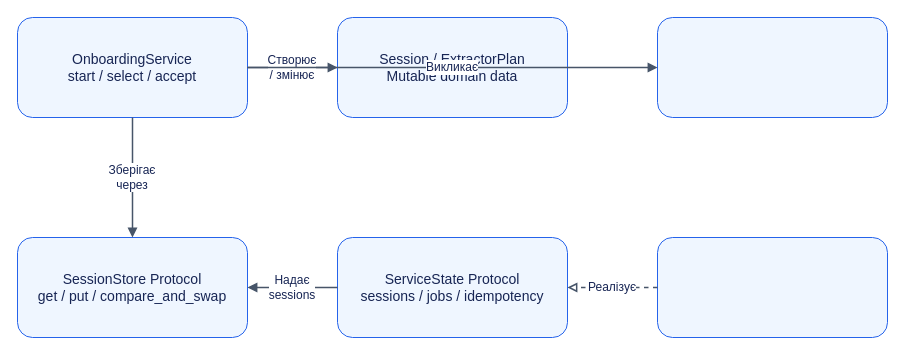
Some shapes in this 905 by 355 pixel diagram are drawn without their labels. The centre of each missing label's shape, as x and y in pixels:
InMemoryState / PostgresState: [772,287]
Neighbours Контрактні HTTP клієнти: [772,67]
